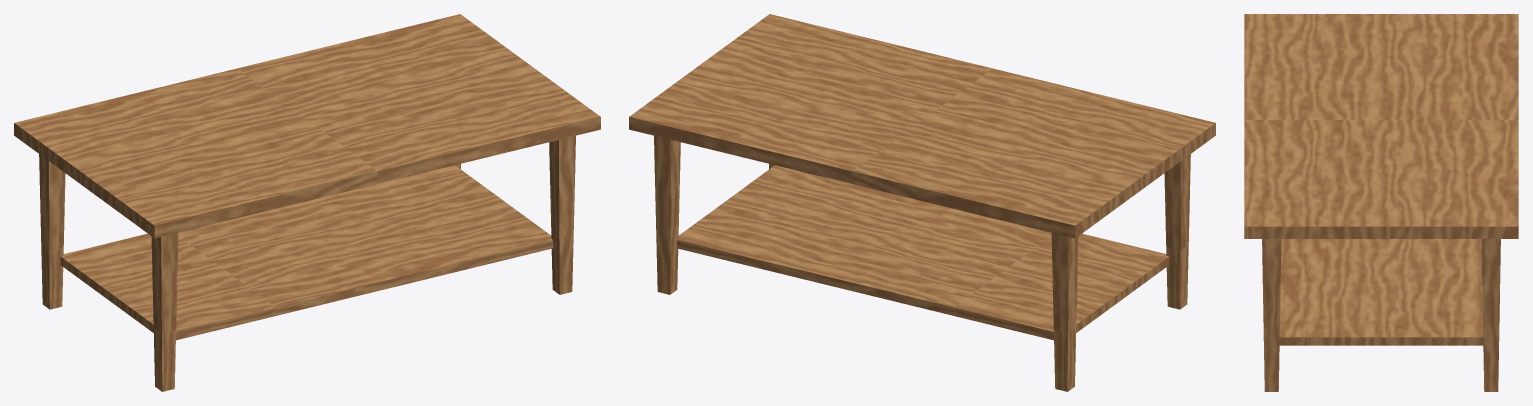
3 views of the same model, side by side, from view 1: azimuth 30°, elevation 25°; view 2: azimuth 150°, elevation 25°; view 3: azimuth 270°, elevation 25° (orthographic). The views are drawn at different scales.
Visible parts, largest first — view 1: Coffee table, oak; view 2: Coffee table, oak; view 3: Coffee table, oak.
Boxes of the visible parts, x1=… form: Coffee table, oak: x1=14, y1=14, x2=600, y2=391; Coffee table, oak: x1=629, y1=14, x2=1215, y2=391; Coffee table, oak: x1=1244, y1=14, x2=1518, y2=391.
Size of the model in its own units: 1.1 by 0.42 by 0.6.
Materials: 1 (1 with a texture image).
